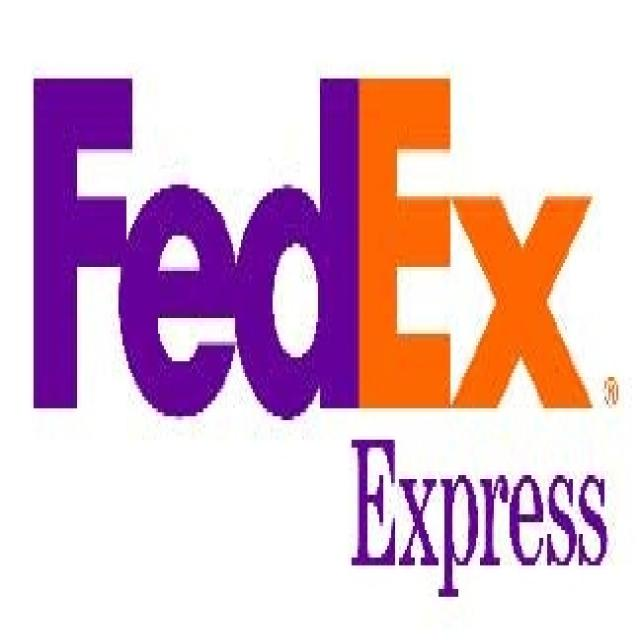fedex: (33, 72, 602, 425)
